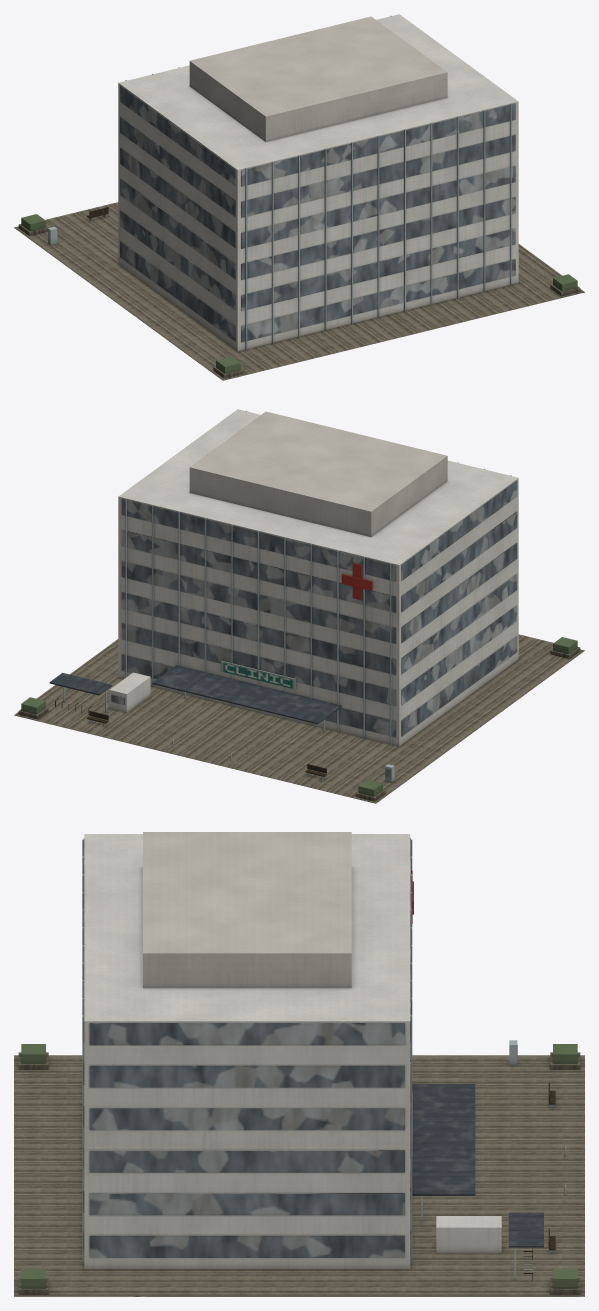
The model's file is hospital_001.obj.
The picture shows the model from 3 angles, top to bottom: view 1: azimuth 30°, elevation 25°; view 2: azimuth 150°, elevation 25°; view 3: azimuth 270°, elevation 25°; orthographic projection. The views are drawn at different scales.
Visible parts, largest first — view 1: hospital_001; view 2: hospital_001; view 3: hospital_001.
Boxes of the visible parts, x1,y1,x2,y2 form: hospital_001: [14, 14, 584, 380]; hospital_001: [14, 409, 584, 803]; hospital_001: [14, 832, 584, 1296].
Bounding box in the file's own units: 43.8 × 24 × 43.8.
Materials: 1 (1 with a texture image).
